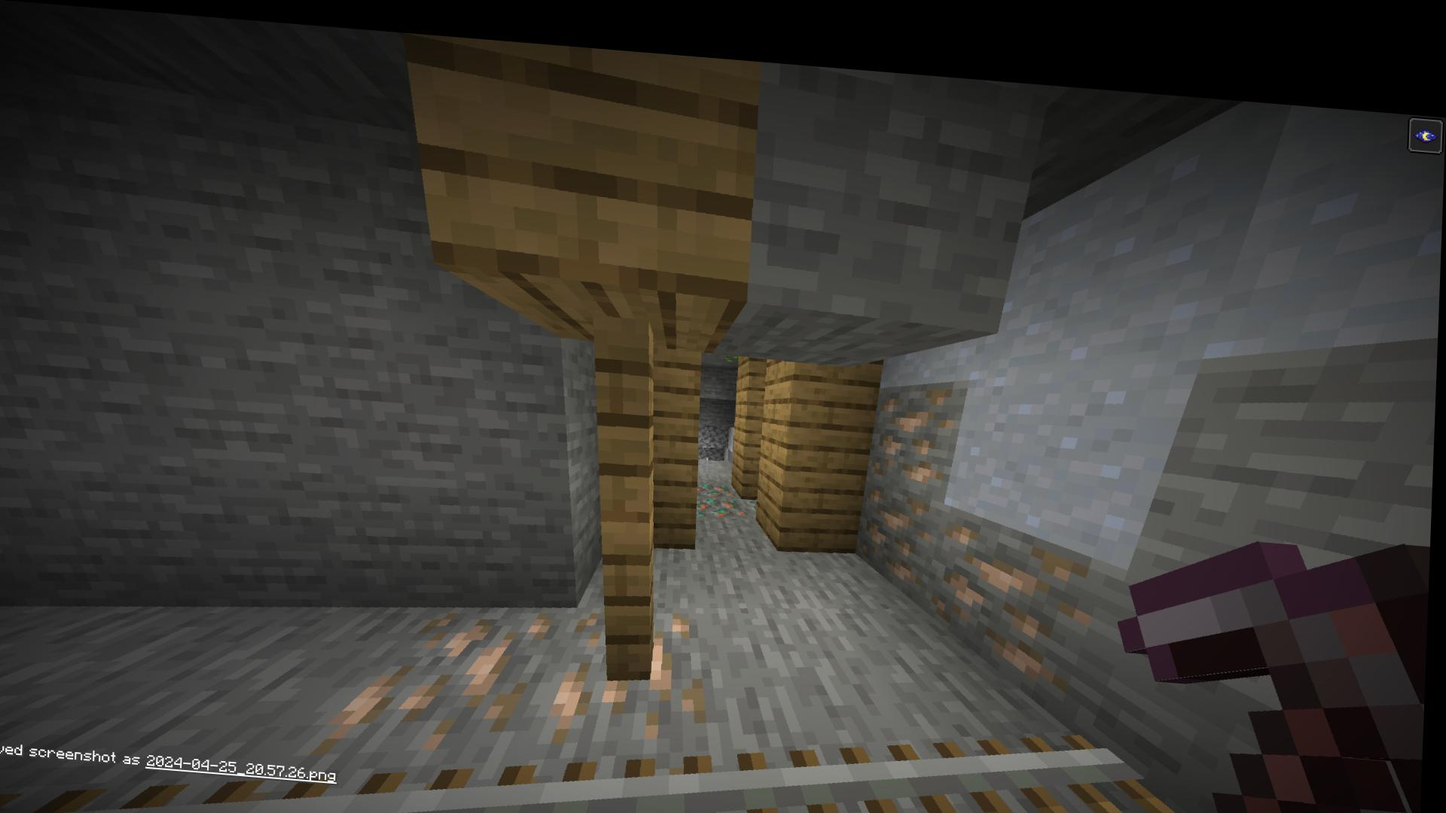iron ore: (934, 498, 1114, 672), (348, 595, 549, 736), (570, 597, 712, 730), (871, 371, 960, 472), (865, 465, 937, 566)
